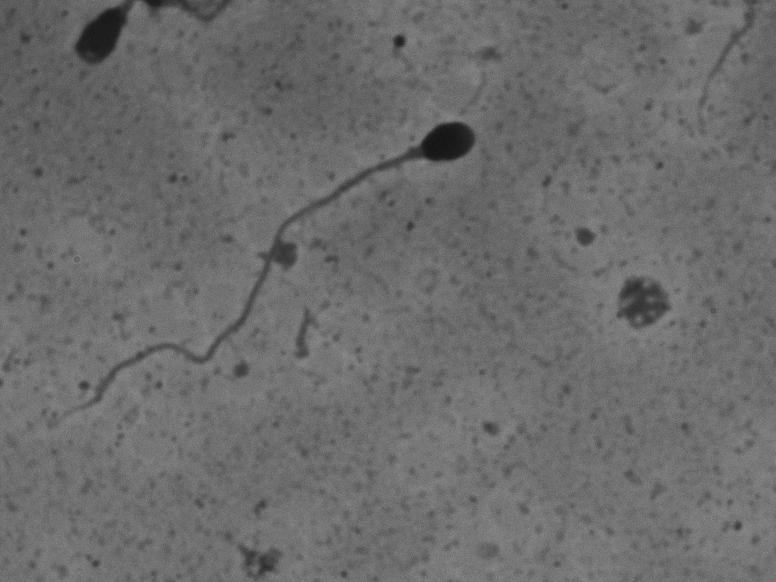Normal: (36, 95, 547, 427)
